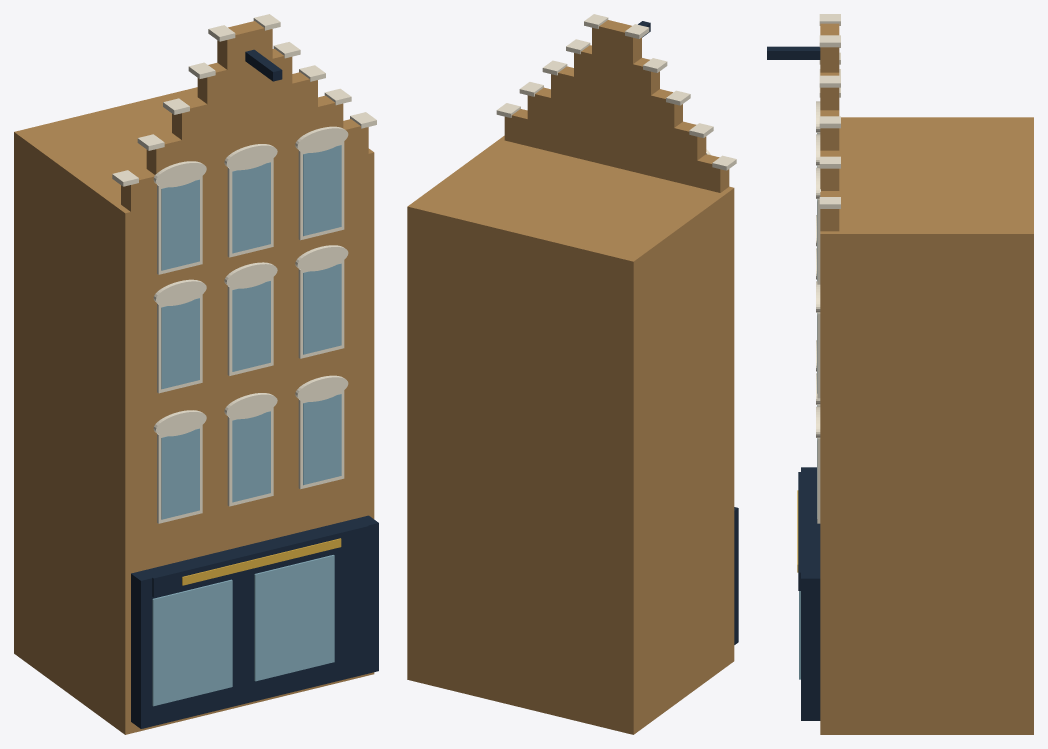
Rendered from canal-house-narrow-b.glb.
3 renders of one model, left to right at view 1: azimuth 30°, elevation 25°; view 2: azimuth 150°, elevation 25°; view 3: azimuth 270°, elevation 25°, orthographic. The views are drawn at different scales.
Parts seen in each view (by area): view 1: Cube, Cube.017, Cube.018, Cube.019, Cube.004, Cube.007, Cube.001, Cube.020, Cube.032, Cube.034, Cube.038, Cube.024 (+27 smaller); view 2: Cube, Cube.001, Cube.004, Cube.007, Cube.010, Cube.013, Cube.017; view 3: Cube, Cube.017, Cube.013, Cube.016, Cube.007, Cube.004, Cube.001, Cube.010.
Part boxes in pixels (x1=…): Cube: x1=14, y1=87, x2=374, y2=734; Cube.017: x1=131, y1=515, x2=378, y2=728; Cube.018: x1=152, y1=579, x2=232, y2=706; Cube.019: x1=254, y1=555, x2=334, y2=681; Cube.004: x1=146, y1=95, x2=343, y2=174; Cube.007: x1=172, y1=72, x2=317, y2=139; Cube.001: x1=121, y1=119, x2=368, y2=211; Cube.020: x1=152, y1=525, x2=368, y2=597; Cube.032: x1=232, y1=281, x2=270, y2=371; Cube.034: x1=303, y1=263, x2=341, y2=354; Cube.038: x1=232, y1=162, x2=270, y2=253; Cube.024: x1=161, y1=428, x2=199, y2=519; Cube: x1=407, y1=135, x2=734, y2=734; Cube.001: x1=504, y1=109, x2=729, y2=192; Cube.004: x1=527, y1=87, x2=706, y2=160; Cube.007: x1=551, y1=66, x2=682, y2=127; Cube.010: x1=574, y1=45, x2=659, y2=95; Cube.013: x1=592, y1=20, x2=641, y2=65; Cube.017: x1=734, y1=507, x2=738, y2=644; Cube: x1=820, y1=117, x2=1033, y2=734; Cube.017: x1=801, y1=467, x2=820, y2=720; Cube.013: x1=820, y1=23, x2=839, y2=72; Cube.016: x1=767, y1=46, x2=820, y2=59; Cube.007: x1=820, y1=110, x2=839, y2=150; Cube.004: x1=820, y1=150, x2=839, y2=190; Cube.001: x1=820, y1=191, x2=839, y2=231; Cube.010: x1=820, y1=72, x2=839, y2=110.
Size of the model in its own units: 4.48 by 11.39 by 4.25.
